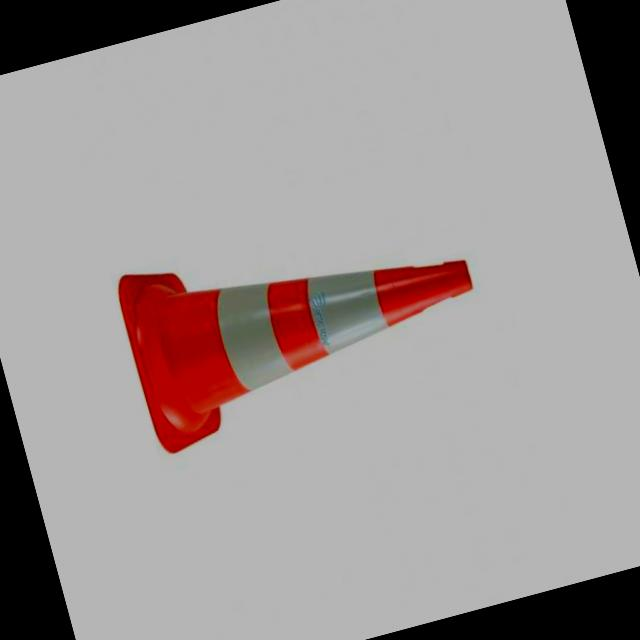cone: (101, 163, 516, 467)
